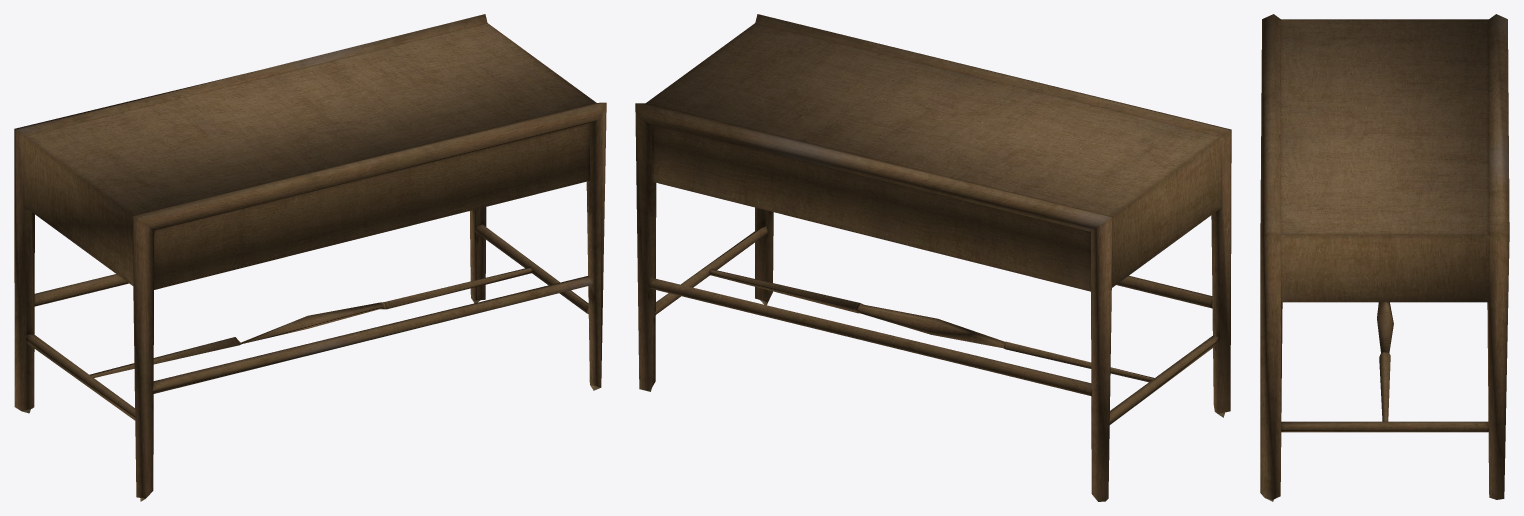
File: table-lod.glb
3 views of the same model, side by side, from view 1: azimuth 30°, elevation 25°; view 2: azimuth 150°, elevation 25°; view 3: azimuth 270°, elevation 25° (orthographic). The views are drawn at different scales.
Visible parts, largest first — view 1: small_wooden_table_01; view 2: small_wooden_table_01; view 3: small_wooden_table_01.
Part boxes in pixels (x1,y1,x2,y2): small_wooden_table_01: [14, 14, 606, 501]; small_wooden_table_01: [635, 14, 1231, 501]; small_wooden_table_01: [1260, 14, 1509, 501].
Size of the model in its own units: 0.9162 by 0.5331 by 0.4399.
Materials: 1 (1 with a texture image).
